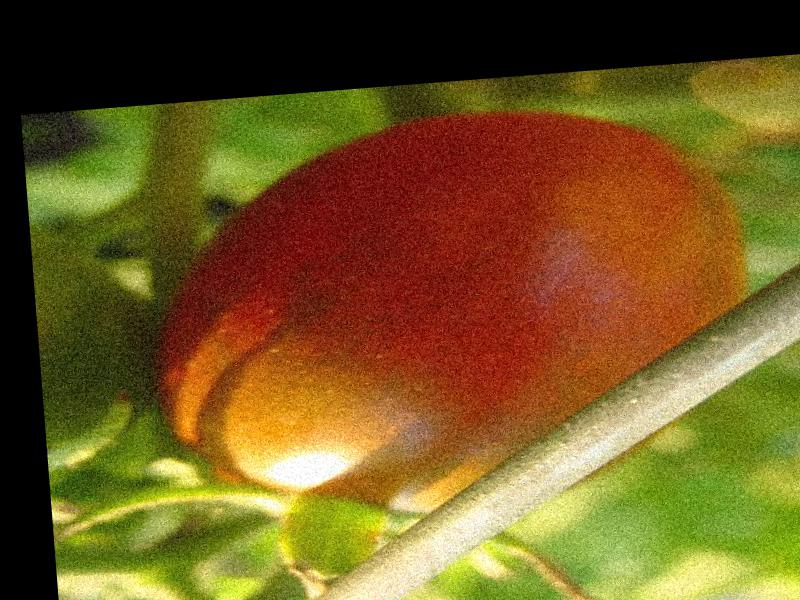Tomato: (147, 94, 752, 530)
